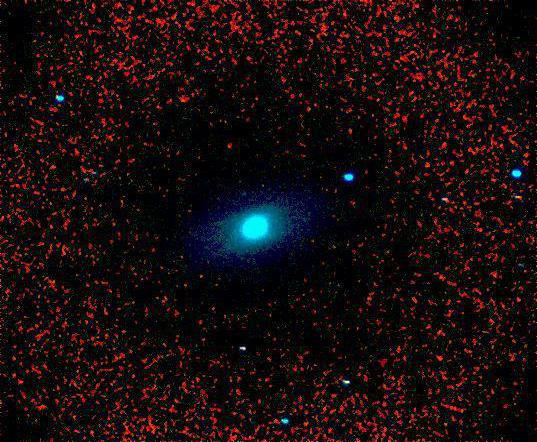star: (185, 256, 215, 286)
